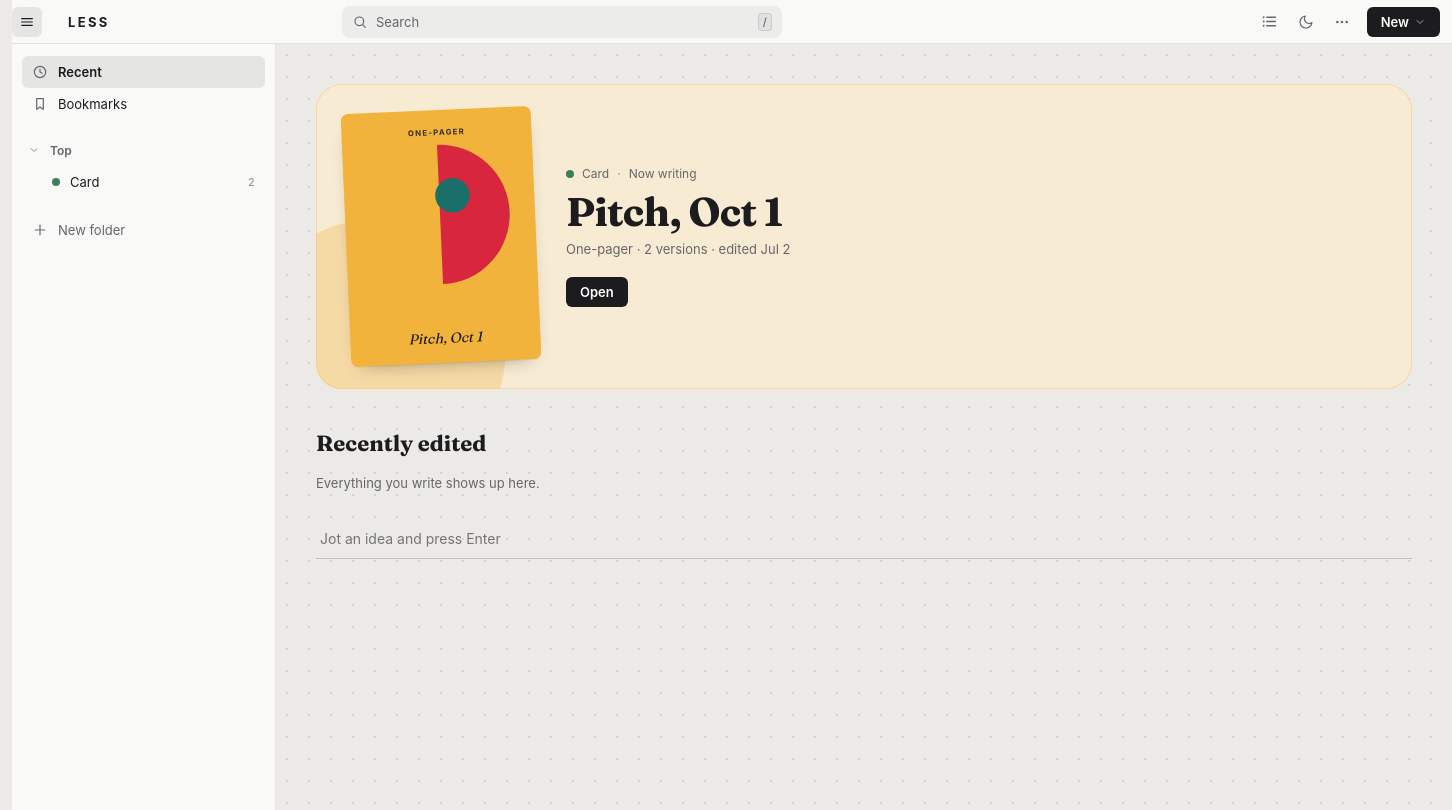
Test: ProjectsHome desk › shows a stack as one cover and fans its versions out, current first
Click the button with class "lib-project" at (56, 182), box [52,174,255,190]
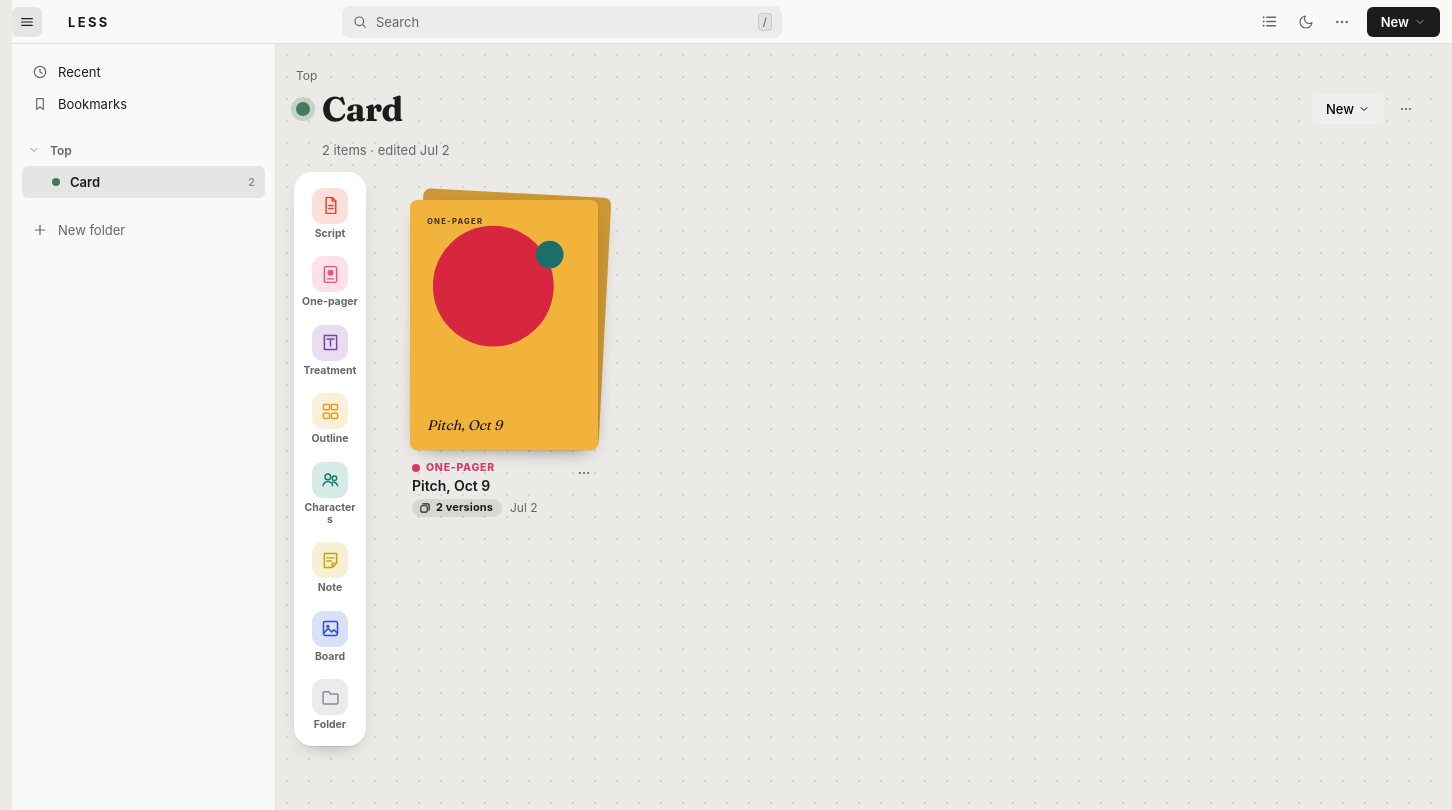
Expected: the number of buttons with class "dk-tile" is 1, [410,200,598,517]
Click the button with class "dk-versions" at (457, 508), box [412,499,502,517]
(page scrolled)
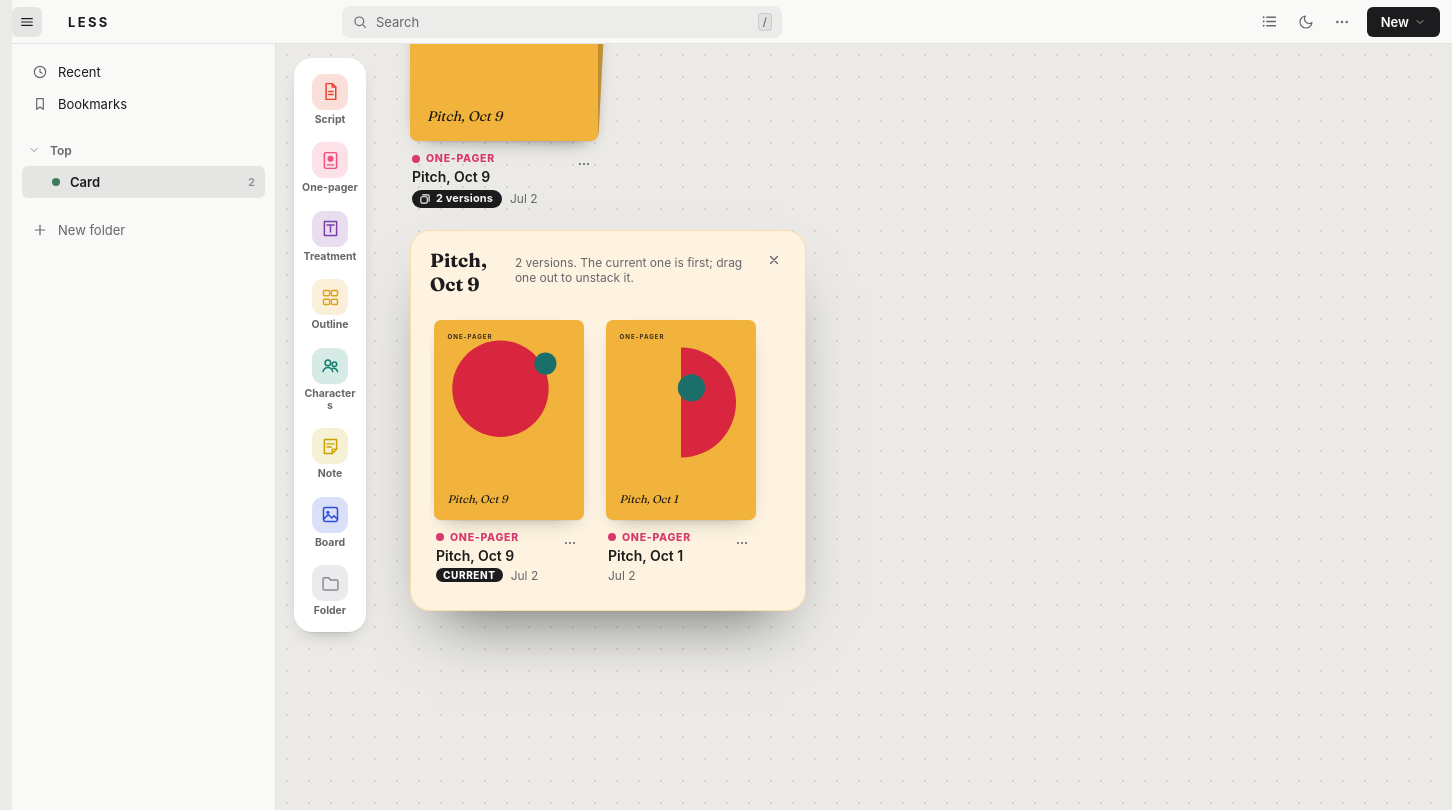
Expected: the text "Current" is shown, [436,568,503,582]
